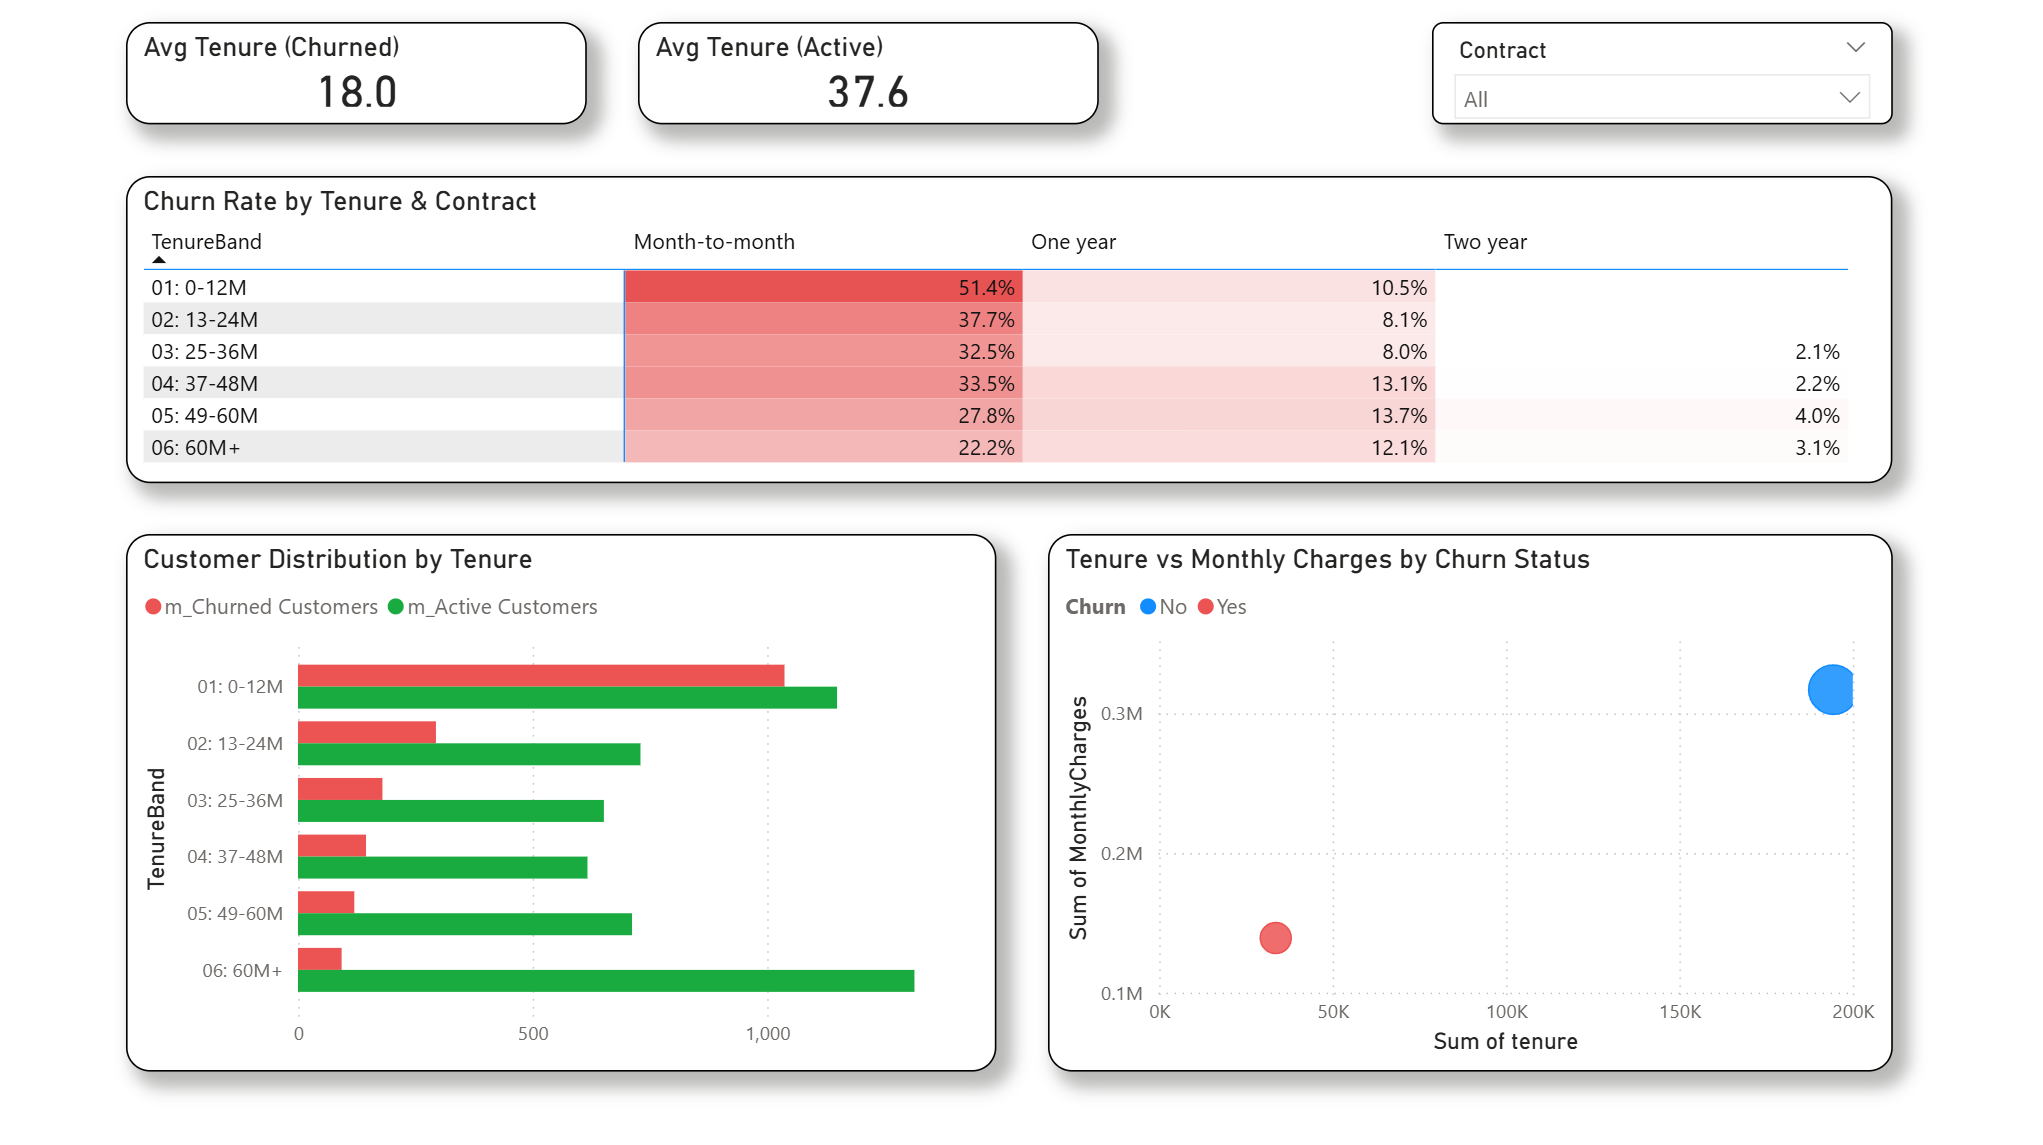

What the dashboard file says about the page in this screenshot:
{"tool":"powerbi","page":{"name":"Cohort & Tenure","canvas":[1280,720],"ordinal":1},"visuals":[{"type":"slicer","fields":{"Values":["dimContract.Contract"]},"box":[896,16,288,64],"z":0},{"type":"card","title":"Avg Tenure (Churned)","fields":{"Values":["_Measures.m_Avg Tenure Churned"]},"box":[80,16,288,64],"z":1000},{"type":"card","title":"Avg Tenure (Active)","fields":{"Values":["_Measures.m_Avg Tenure Active"]},"box":[400,16,288,64],"z":2000},{"type":"pivotTable","title":"Churn Rate by Tenure & Contract","fields":{"Rows":["dimTenureBand.TenureBand"],"Columns":["dimContract.Contract"],"Values":["_Measures.m_Churn Rate"]},"box":[80,112,1104,192],"z":3000},{"type":"clusteredBarChart","title":"Customer Distribution by Tenure","fields":{"Category":["dimTenureBand.TenureBand"],"Y":["_Measures.m_Churned Customers","_Measures.m_Active Customers"]},"box":[80,336,544,336],"z":4000},{"type":"scatterChart","title":"Tenure vs Monthly Charges by Churn Status","fields":{"X":["Sum(factSubscription.tenure)"],"Y":["Sum(factSubscription.MonthlyCharges)"],"Series":["factSubscription.Churn"],"Size":["_Measures.m_Total Customers"]},"box":[656,336,528,336],"z":5000}]}

Visuals, with their boxes in screenshot pixels (x1, y1, x2, y2), scaled from the page's 1280x720 canvas onto the 2043x1145 screenshot:
slicer - dimContract.Contract: 1430,25,1890,127
"Avg Tenure (Churned)" card: 128,25,587,127
"Avg Tenure (Active)" card: 638,25,1098,127
"Churn Rate by Tenure & Contract" pivotTable: 128,178,1890,483
"Customer Distribution by Tenure" clusteredBarChart: 128,534,996,1069
"Tenure vs Monthly Charges by Churn Status" scatterChart: 1047,534,1890,1069
